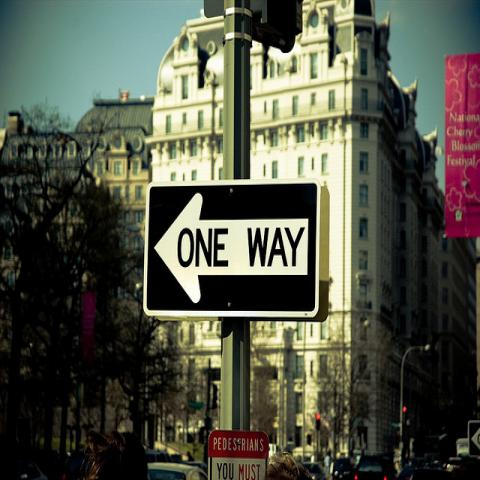car: (352, 447, 396, 479), (148, 461, 208, 479), (452, 457, 479, 479), (332, 457, 356, 479)
